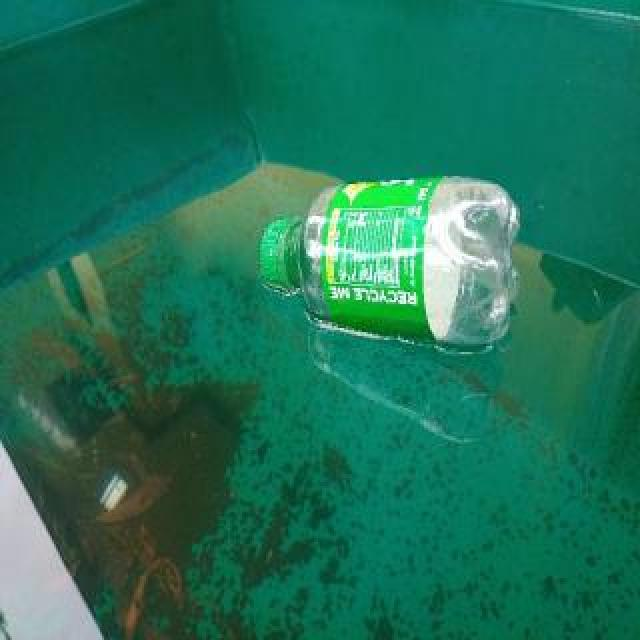Bottle: (252, 167, 532, 353)
